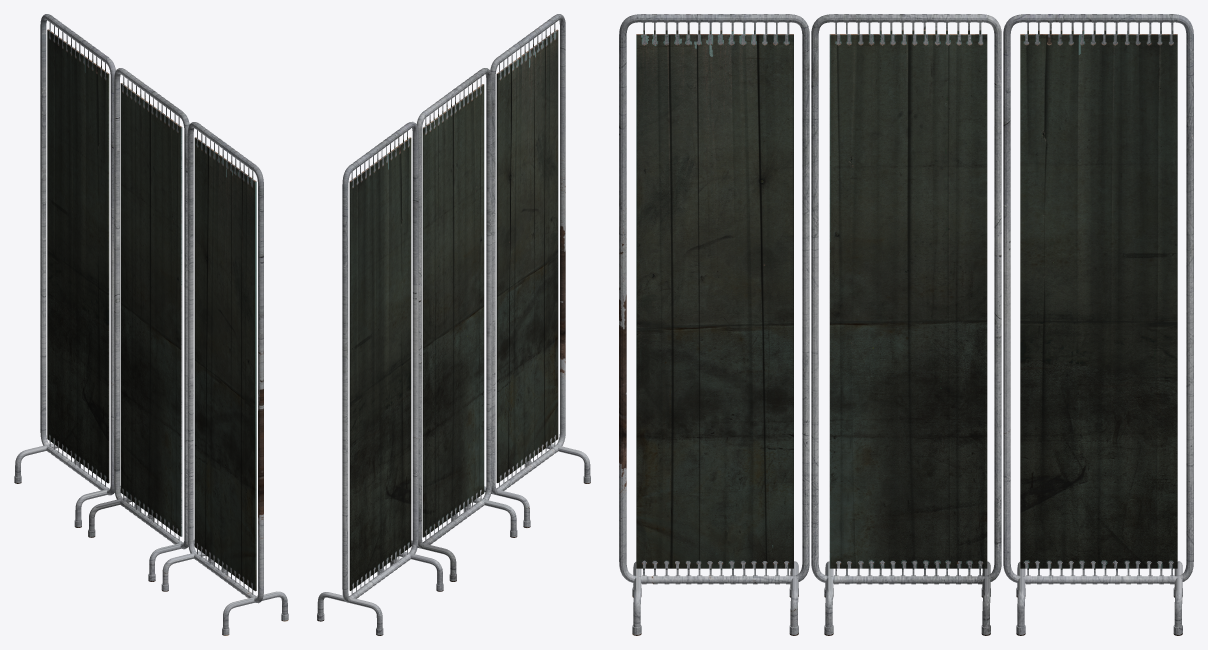
The model's file is hospital_curtain.glb.
3 renders of one model, left to right at view 1: azimuth 30°, elevation 25°; view 2: azimuth 150°, elevation 25°; view 3: azimuth 270°, elevation 25°, orthographic. The views are drawn at different scales.
Parts seen in each view (by area): view 1: Object_3, Object_2; view 2: Object_3, Object_2; view 3: Object_3, Object_2.
Part boxes in pixels (x1,y1,x2,y2): Object_3: [14, 14, 288, 635]; Object_2: [14, 16, 288, 629]; Object_3: [317, 14, 590, 635]; Object_2: [317, 16, 590, 629]; Object_3: [619, 14, 1193, 635]; Object_2: [621, 18, 1191, 627].
Bounding box in the file's own units: 0.5132 × 3.45 × 2.99.
Materials: 1 (1 with a texture image).
